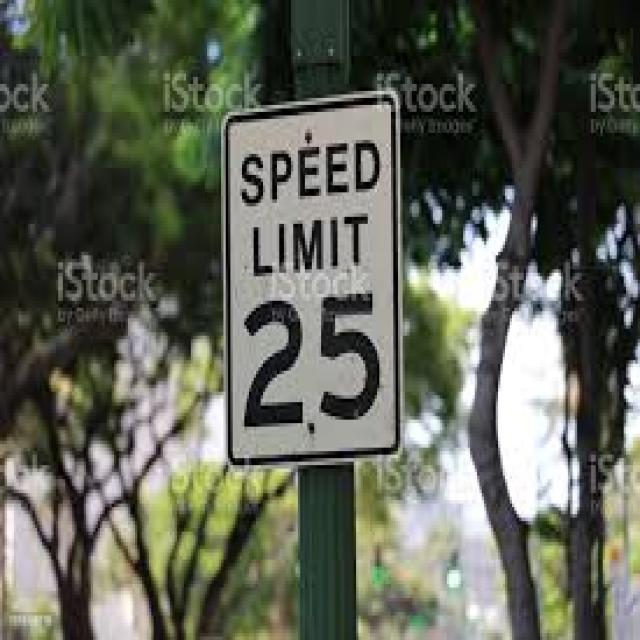speedLimit25: (222, 114, 404, 456)
